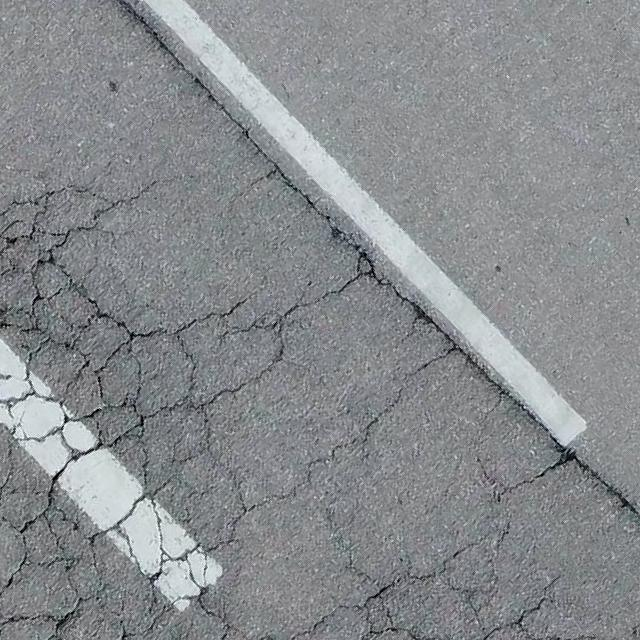GRIETA: (113, 0, 639, 519), (308, 389, 405, 468), (286, 273, 363, 314), (498, 461, 561, 497), (403, 346, 454, 385)
PIEL DE COCODRILO: (0, 179, 574, 639)
